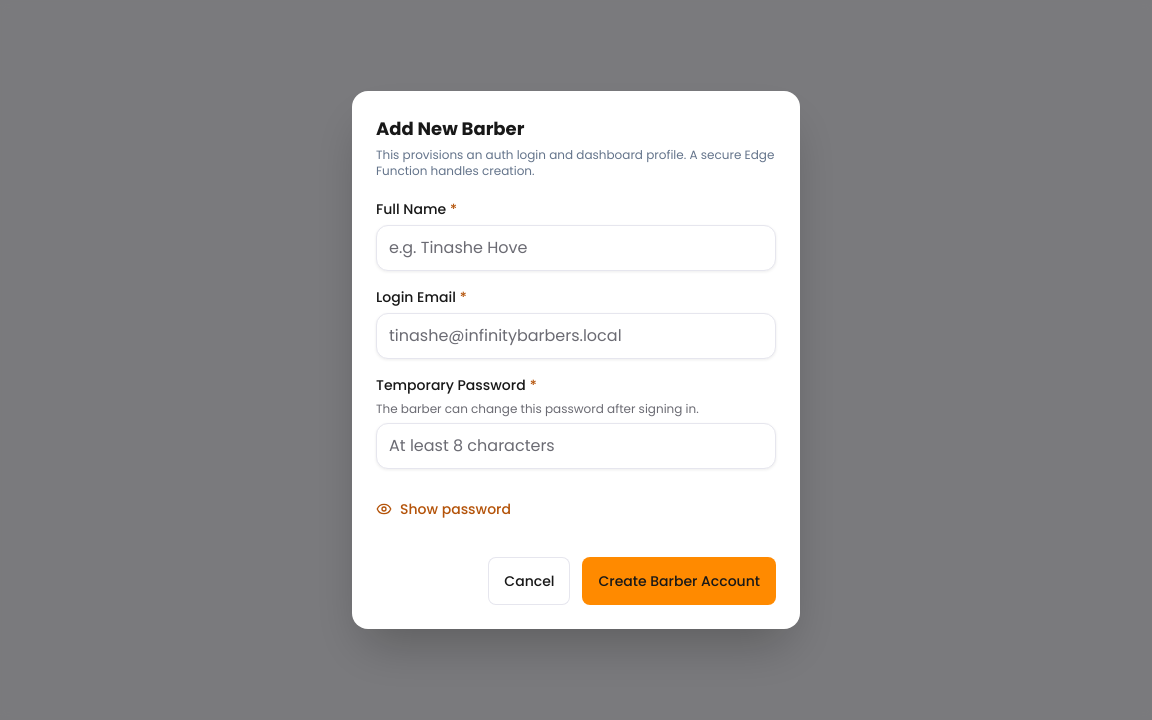
Test: CreateBarberModal › keeps the form open and shows the creation error when submission fails
In the field labelled "Full Name*": (576, 248) [376,225,776,271], type "Tinashe Hove"
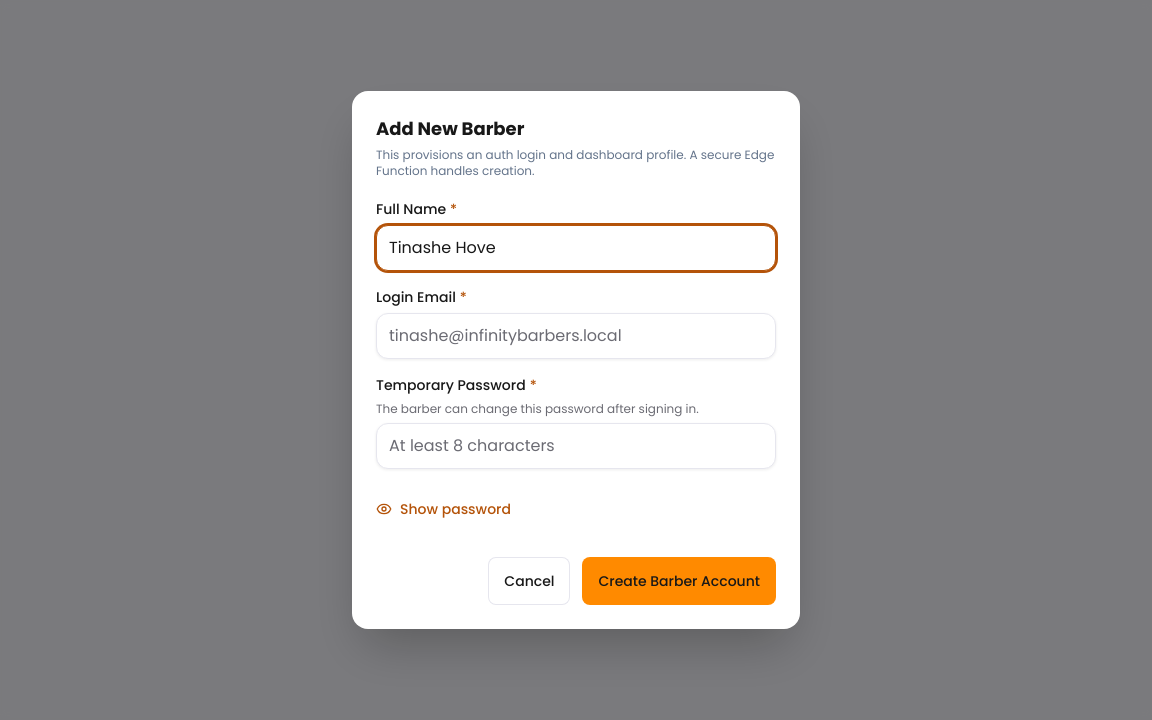
In the field labelled "Login Email*": (576, 336) [376,313,776,359], type "tinashe@example.com"
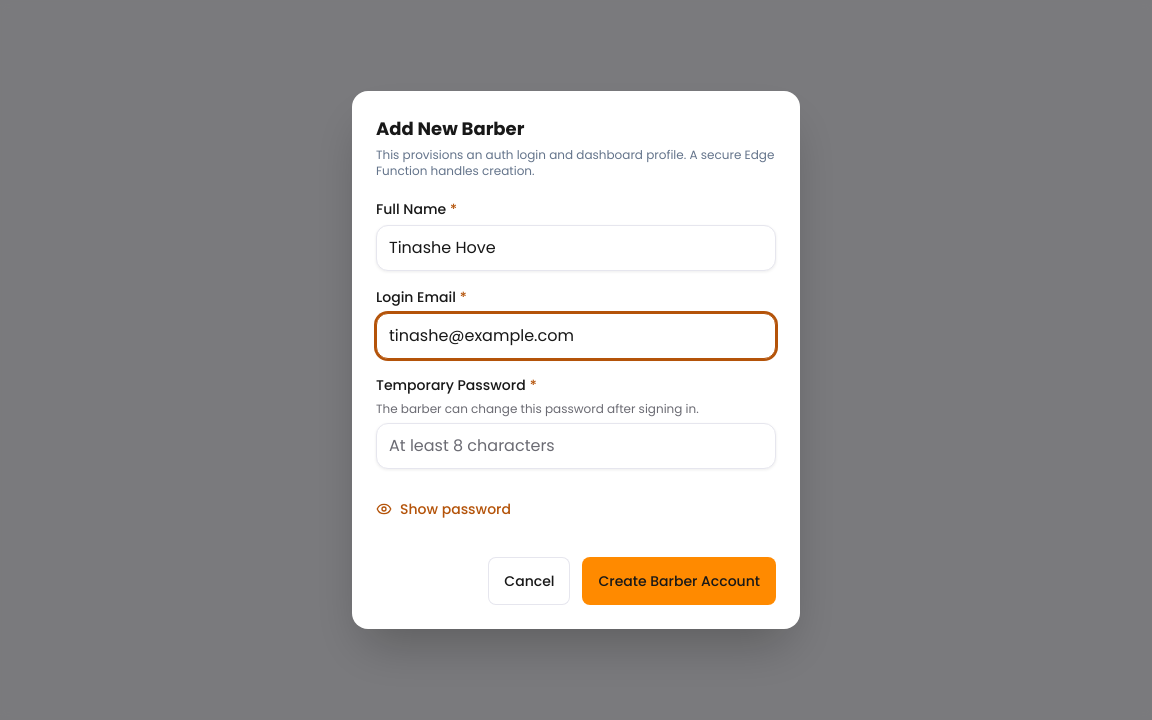
In the password field labelled "Temporary Password*": (576, 446) [376,423,776,469], type "safe-password-123"
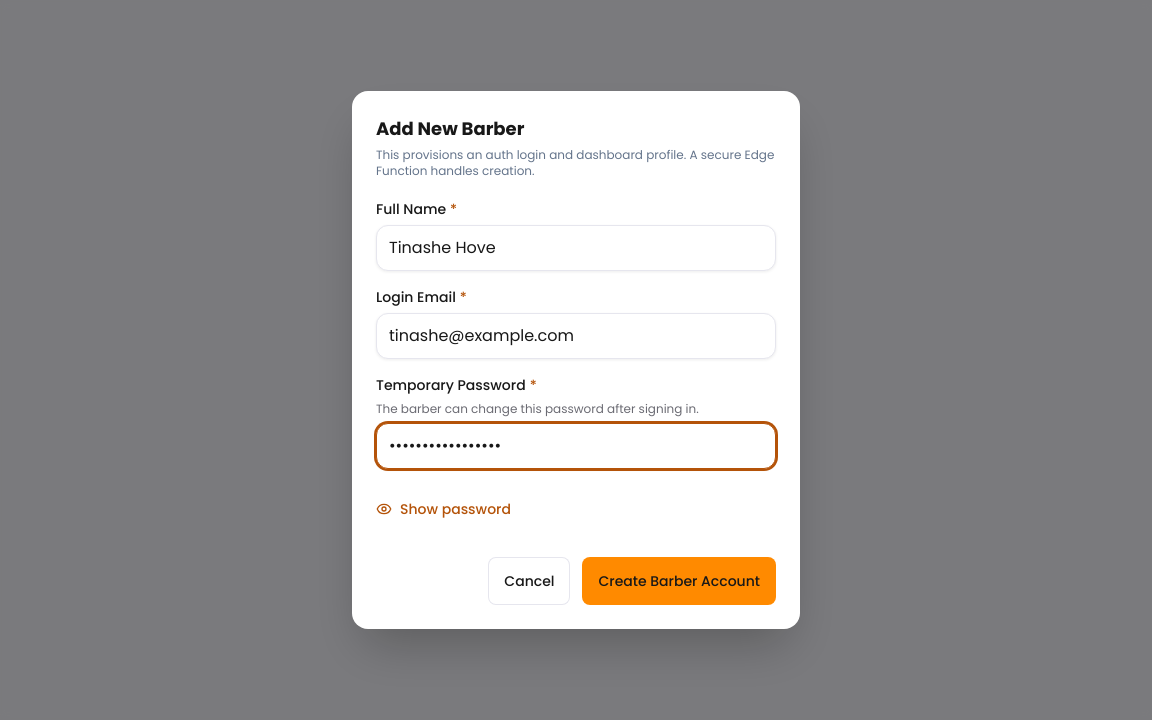
Click the button "Create Barber Account": (679, 581) [582,557,776,605]
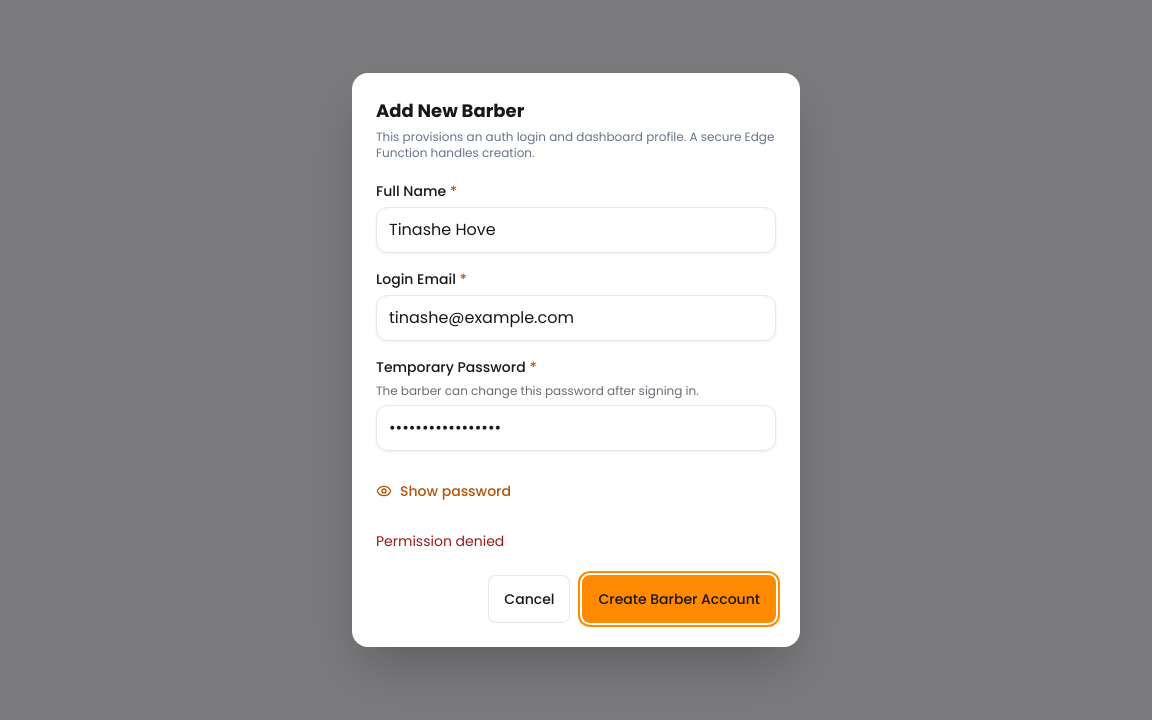
Expected: the button "Create Barber Account" is shown, [582,575,776,623]
Expected: the message reads "Permission denied", [376,531,504,551]
